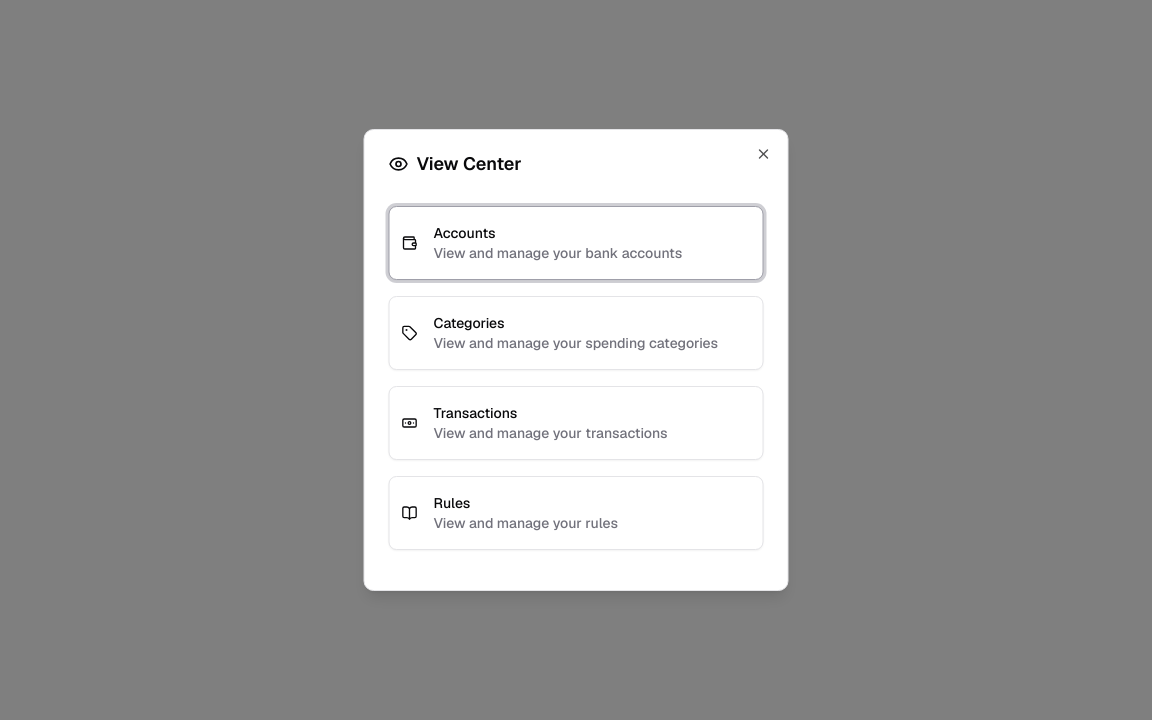
Scenario: InfoCenterModal › opens the rules list
What coordinates should you click on to do the following:
click the button "Rules View and manage your rules"
I would click on:
 (576, 513)
Its box is [388, 476, 764, 550].
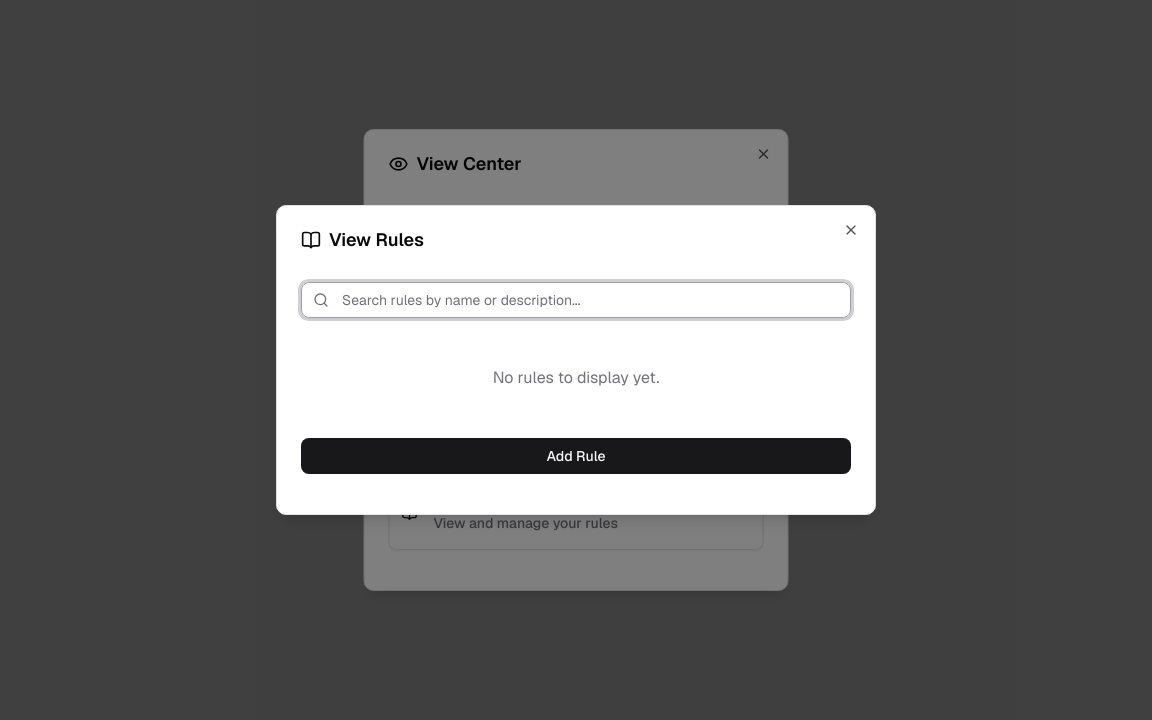
Now the dialog "View Rules" is shown, box [276, 205, 876, 515]
